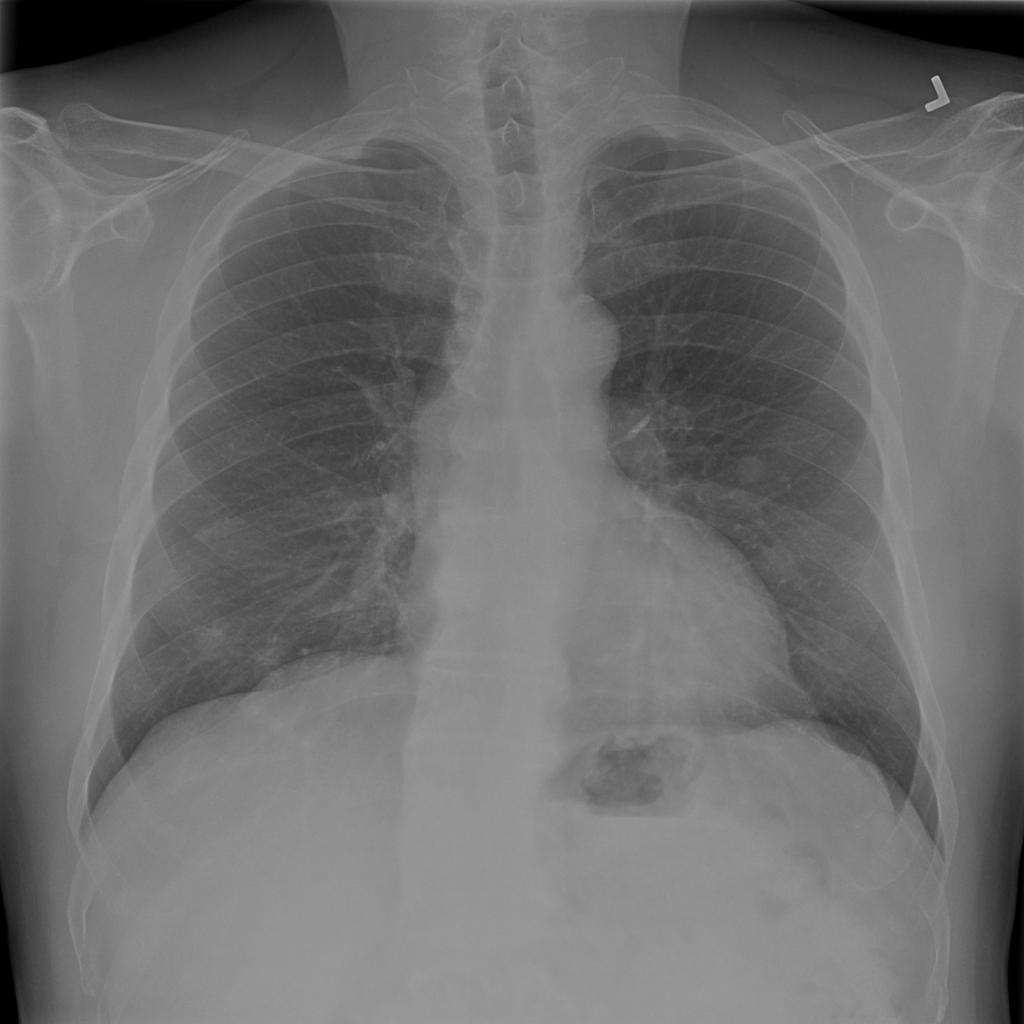nodule: (182, 614, 239, 660), (727, 444, 778, 495)
